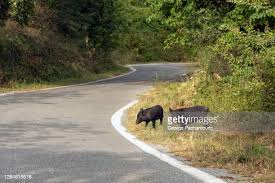boar: (135, 105, 165, 130)
